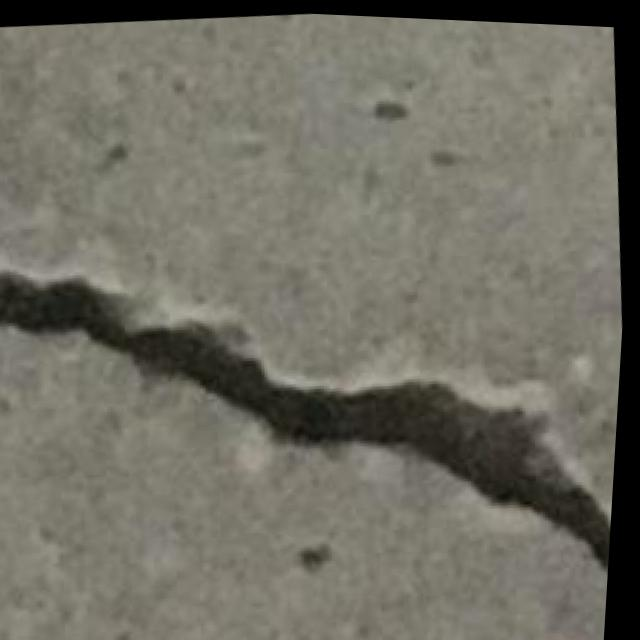Crack: (0, 215, 630, 635)
